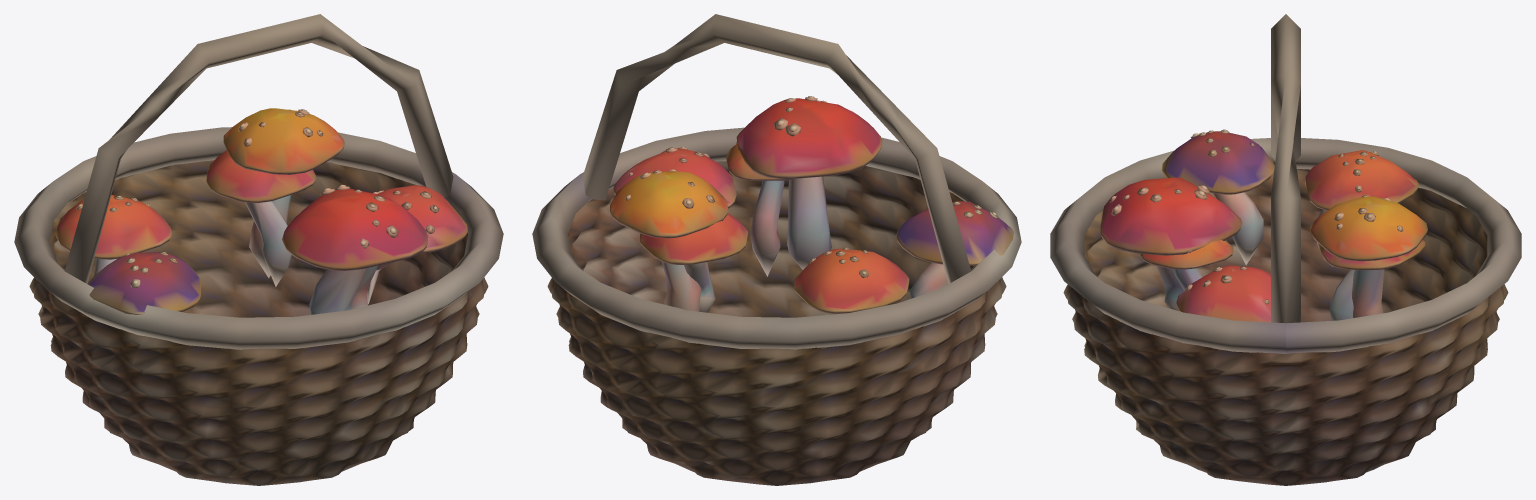
The model's file is sepet_mantar.glb.
3 renders of one model, left to right at view 1: azimuth 30°, elevation 25°; view 2: azimuth 150°, elevation 25°; view 3: azimuth 270°, elevation 25°, orthographic. The views are drawn at different scales.
Parts seen in each view (by area): view 1: sepet_mantar_LOD0; view 2: sepet_mantar_LOD0; view 3: sepet_mantar_LOD0.
Part boxes in pixels (x1,y1,x2,y2): sepet_mantar_LOD0: [14, 14, 503, 485]; sepet_mantar_LOD0: [532, 14, 1021, 485]; sepet_mantar_LOD0: [1050, 14, 1521, 485].
Size of what is drawn, in the model's own units: 0.69 by 0.6251 by 0.6849.
